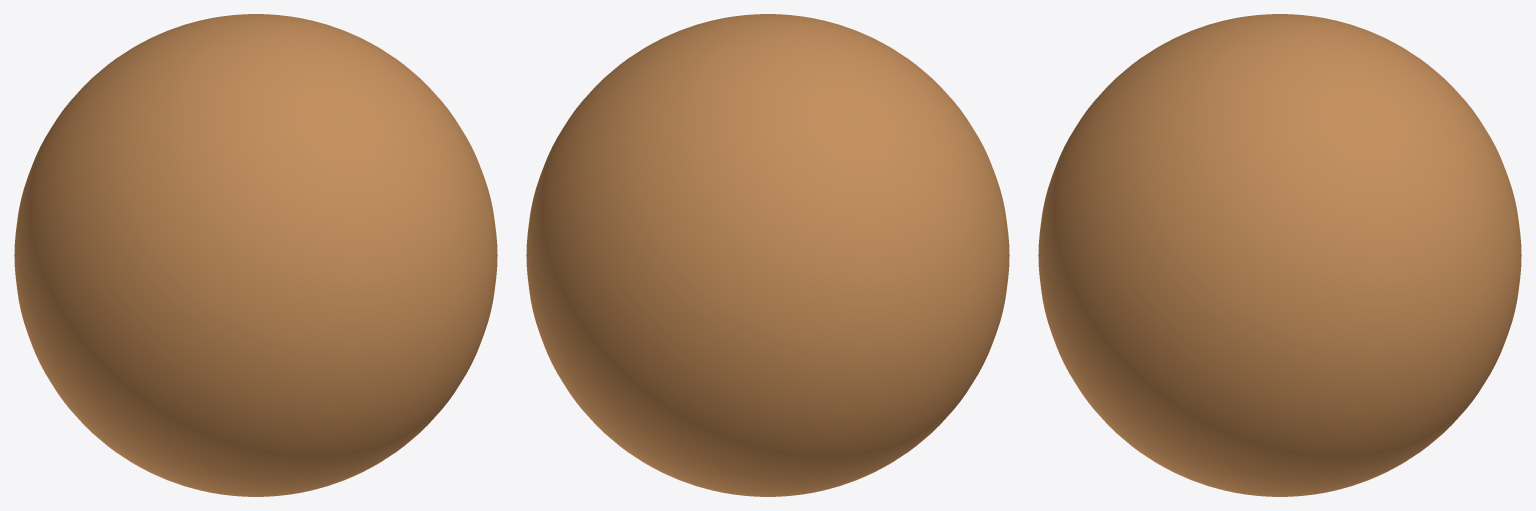
File: particle.gltf
The picture shows the model from 3 angles, left to right: view 1: azimuth 30°, elevation 25°; view 2: azimuth 150°, elevation 25°; view 3: azimuth 270°, elevation 25°; orthographic projection.
Visible parts, largest first — view 1: Kugel; view 2: Kugel; view 3: Kugel.
Boxes of the visible parts, <box> form: Kugel: <box>14,14,497,496</box>; Kugel: <box>526,14,1009,496</box>; Kugel: <box>1038,14,1521,496</box>.
Size of the model in its own units: 0.2 by 0.2 by 0.2.
